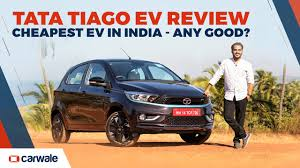Tiago: (45, 57, 216, 153)
